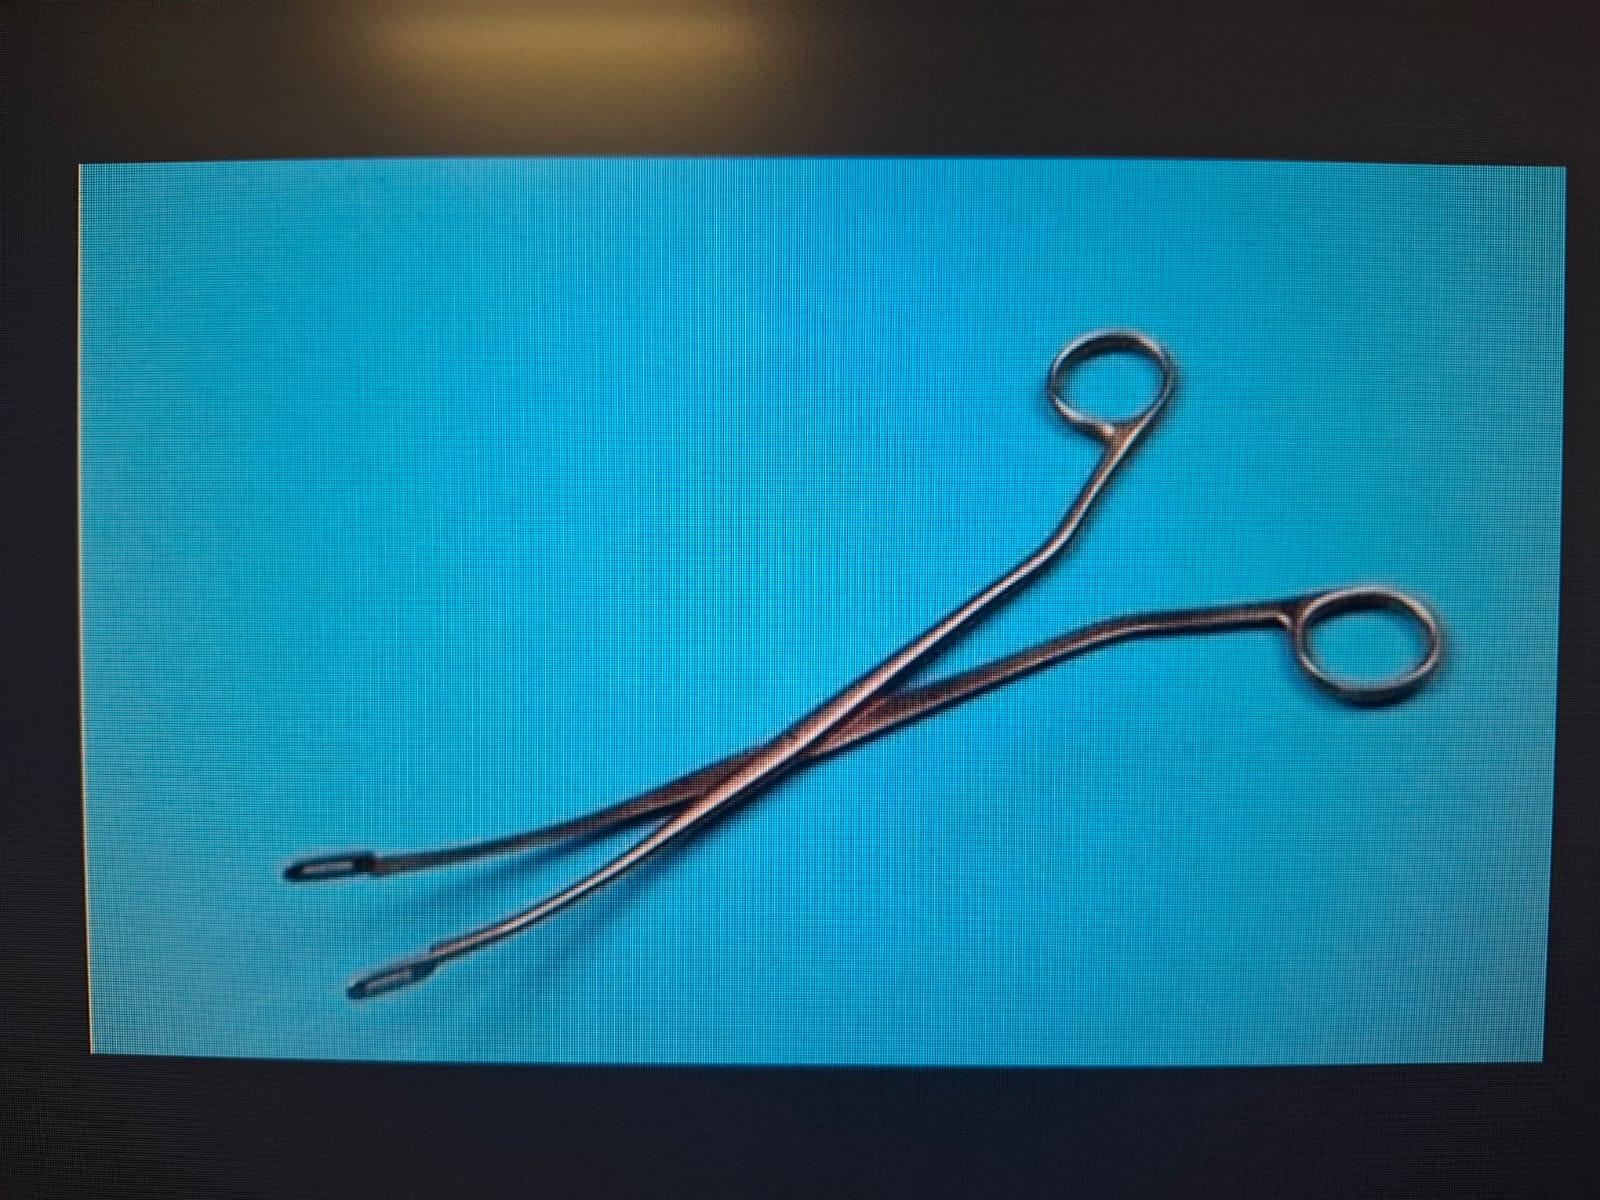Desjardin Forceps: (272, 313, 1470, 1029)
